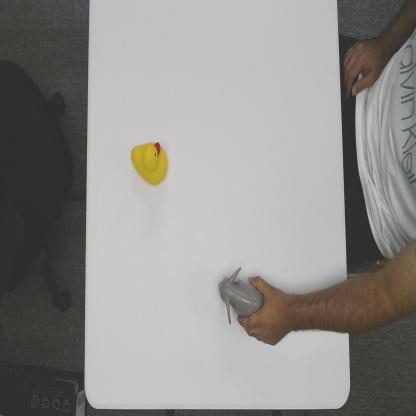Arm: (294, 282, 349, 336)
Duck: (130, 139, 169, 189)
Elephant: (218, 267, 264, 323)
Hand: (237, 275, 292, 349)
